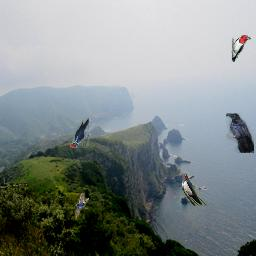Crow: (226, 113, 254, 153)
Swallow: (182, 173, 207, 206), (75, 193, 89, 220)
Woodpecker: (70, 118, 89, 148), (231, 35, 251, 62)
